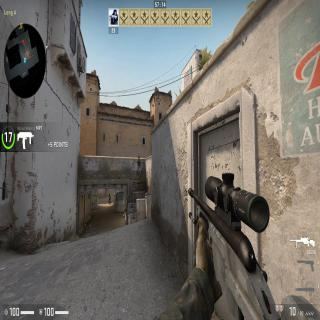T-Body: (136, 156, 140, 176), (108, 193, 111, 203)
T-Head: (108, 193, 110, 195), (138, 156, 139, 159)
